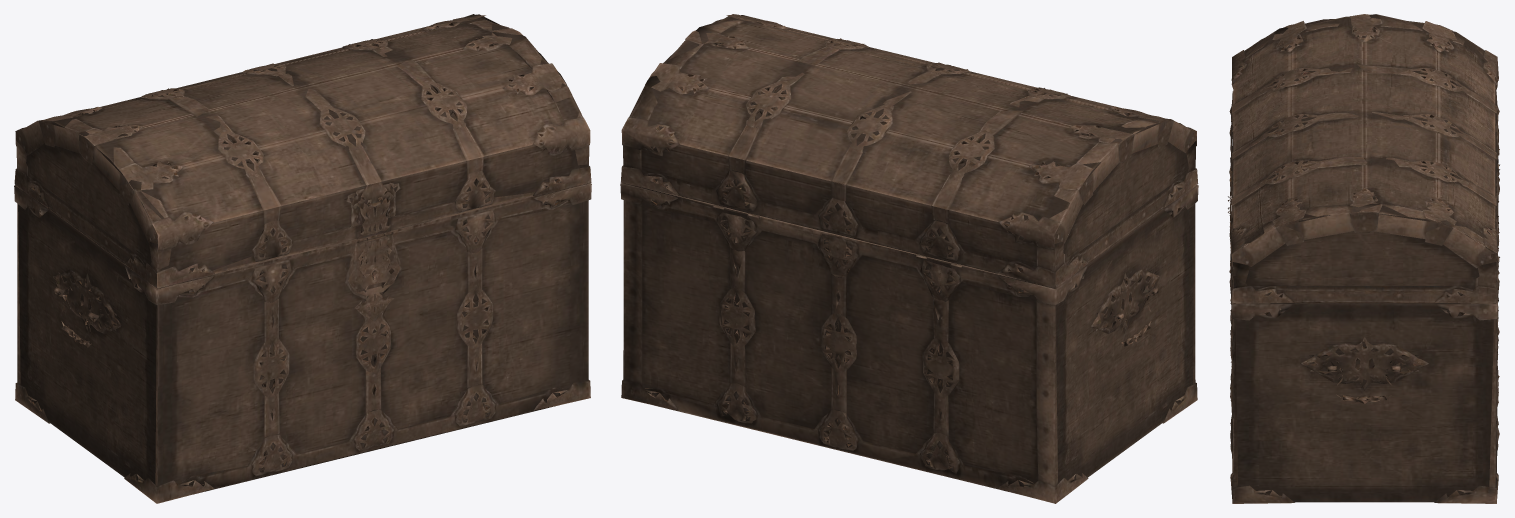
The model's file is ph_chest.gltf.
The picture shows the model from 3 angles, left to right: view 1: azimuth 30°, elevation 25°; view 2: azimuth 150°, elevation 25°; view 3: azimuth 270°, elevation 25°; orthographic projection. The views are drawn at different scales.
Parts seen in each view (by area): view 1: ph_chest; view 2: ph_chest; view 3: ph_chest.
Part boxes in pixels (box(x1,y1,x2,y2)): ph_chest: box(14, 14, 591, 503); ph_chest: box(620, 14, 1198, 503); ph_chest: box(1228, 14, 1499, 503).
Size of the model in its own units: 0.9482 by 0.6197 by 0.5226.
Materials: 1 (1 with a texture image).
